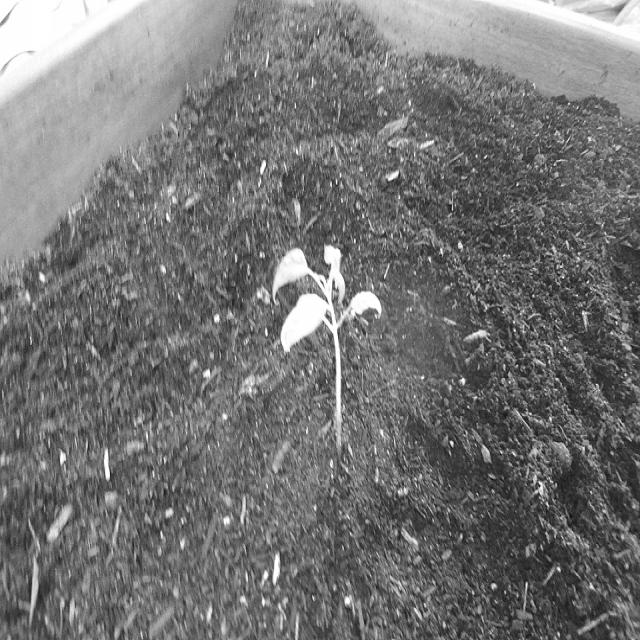Healthy: (263, 214, 391, 472)
